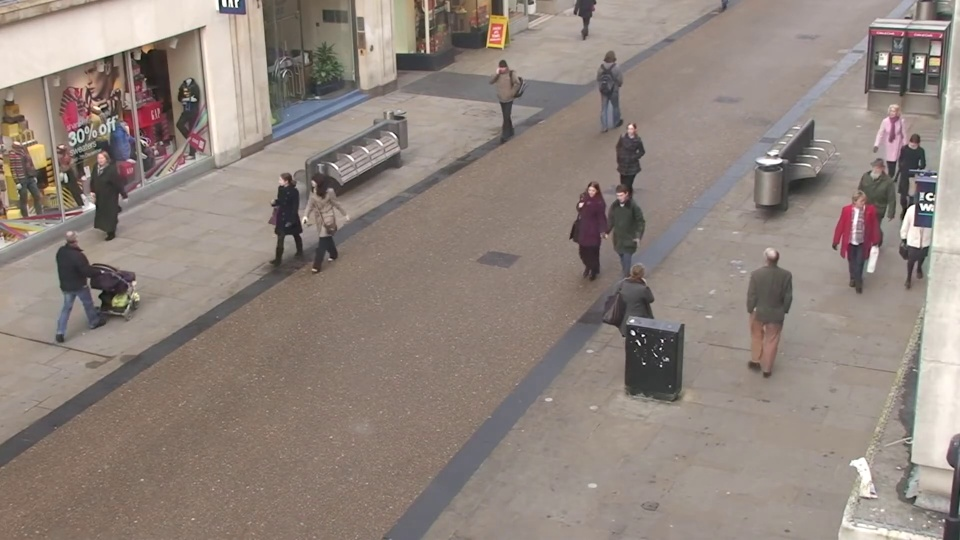pedestrian: (61, 216, 115, 336), (744, 239, 790, 367), (615, 255, 658, 389), (829, 191, 875, 308), (847, 159, 892, 268), (79, 150, 126, 252), (883, 137, 929, 241), (259, 169, 300, 278), (296, 171, 336, 281), (601, 188, 638, 304), (570, 183, 606, 298), (868, 102, 910, 197), (611, 119, 643, 216), (486, 60, 514, 140), (601, 47, 626, 124)
